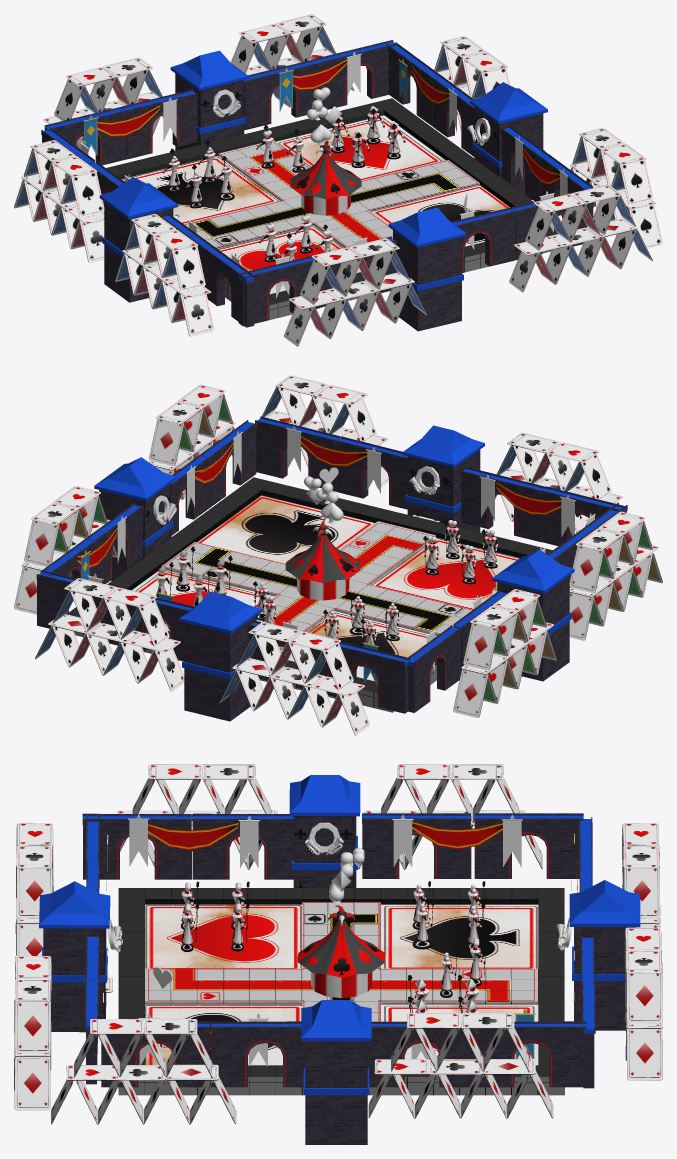
Rendered from Hoc_Board_GroupedAll.FBX.
3 views of the same model, one above another, from view 1: azimuth 30°, elevation 25°; view 2: azimuth 150°, elevation 25°; view 3: azimuth 270°, elevation 25° (orthographic). The views are drawn at different scales.
Visible parts, largest first — view 1: Box017, HOCBoard, Cylinder052, Cylinder054, Cylinder053, Cylinder046, Cylinder047, Cylinder043, Cone002, Cylinder051, Cylinder040, Cylinder029 (+55 smaller); view 2: Box017, HOCBoard, Cylinder066, Cylinder044, Cylinder045, Cylinder051, Cylinder043, Cone002, Cylinder041, Cylinder029, Cylinder046, Cylinder053 (+52 smaller); view 3: Box017, HOCBoard, Cylinder066, Cylinder042, Cylinder048, Cylinder050, Cylinder040, Cylinder047, Cylinder029, Cone002, Cylinder041, Diamonds042 (+41 smaller).
Part boxes in pixels (bbox=[...]): Box017: bbox=[106, 98, 558, 319]; HOCBoard: bbox=[99, 50, 547, 331]; Cylinder052: bbox=[244, 58, 322, 129]; Cylinder054: bbox=[121, 89, 198, 159]; Cylinder053: bbox=[316, 40, 396, 109]; Cylinder046: bbox=[238, 256, 320, 326]; Cylinder047: bbox=[201, 244, 254, 327]; Cylinder043: bbox=[451, 207, 516, 272]; Cone002: bbox=[290, 153, 361, 199]; Cylinder051: bbox=[44, 107, 126, 165]; Cylinder040: bbox=[386, 42, 439, 125]; Cylinder029: bbox=[431, 75, 474, 156]; Box017: bbox=[69, 477, 552, 712]; HOCBoard: bbox=[94, 425, 574, 721]; Cylinder066: bbox=[405, 625, 461, 712]; Cylinder044: bbox=[255, 416, 340, 491]; Cylinder045: bbox=[460, 467, 546, 542]; Cylinder051: bbox=[324, 641, 409, 713]; Cylinder043: bbox=[335, 436, 407, 509]; Cone002: bbox=[285, 534, 360, 583]; Cylinder041: bbox=[201, 420, 257, 507]; Cylinder029: bbox=[87, 503, 143, 583]; Cylinder046: bbox=[541, 486, 626, 546]; Cylinder053: bbox=[36, 570, 117, 645]; Box017: bbox=[118, 888, 564, 1095]; HOCBoard: bbox=[39, 775, 640, 1144]; Cylinder066: bbox=[474, 813, 583, 878]; Cylinder042: bbox=[211, 1021, 305, 1087]; Cylinder048: bbox=[362, 813, 471, 878]; Cylinder050: bbox=[192, 813, 293, 879]; Cylinder040: bbox=[477, 1021, 586, 1087]; Cylinder047: bbox=[82, 813, 191, 879]; Cylinder029: bbox=[367, 1021, 476, 1087]; Cone002: bbox=[297, 921, 385, 977]; Cylinder041: bbox=[101, 1021, 210, 1087]; Diamonds042: bbox=[14, 1057, 50, 1110].
Bounding box in the file's own units: 687 × 207 × 697.
